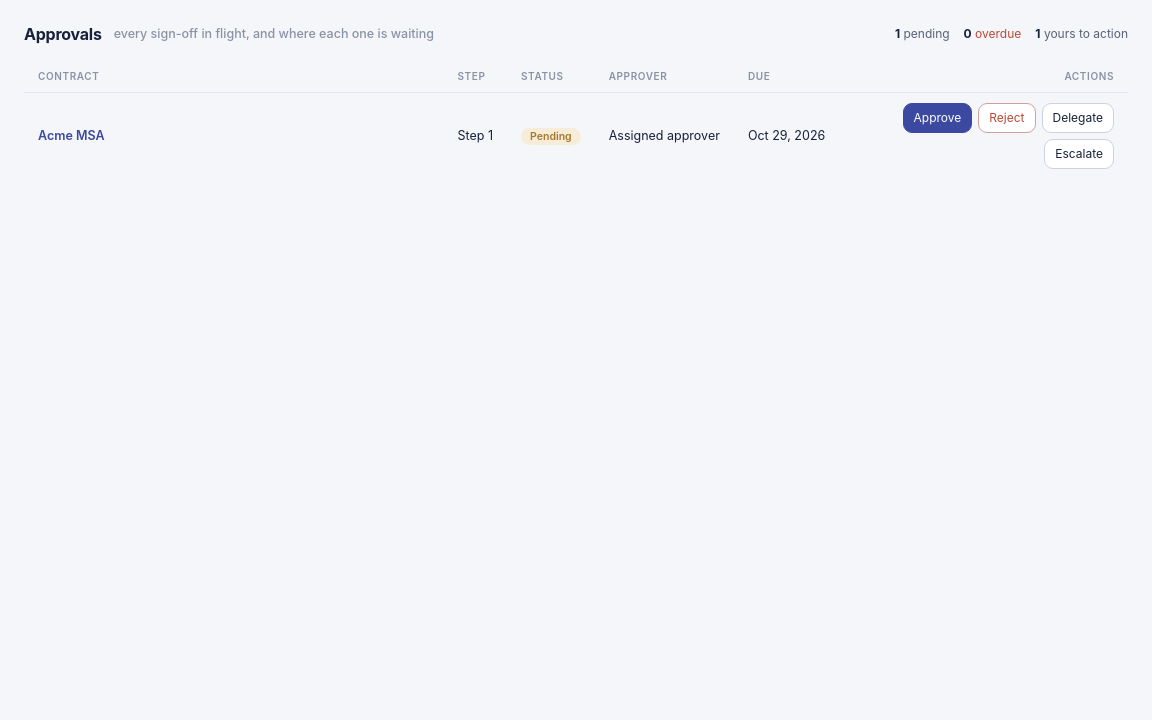
Test: the boxes and messages say which contract › names the contract in the Delegate box and offers only the people the server returns
The width and height of the screenshot is (1152, 720).
Click the button "Delegate" at (1078,118), box [1042, 103, 1114, 133]
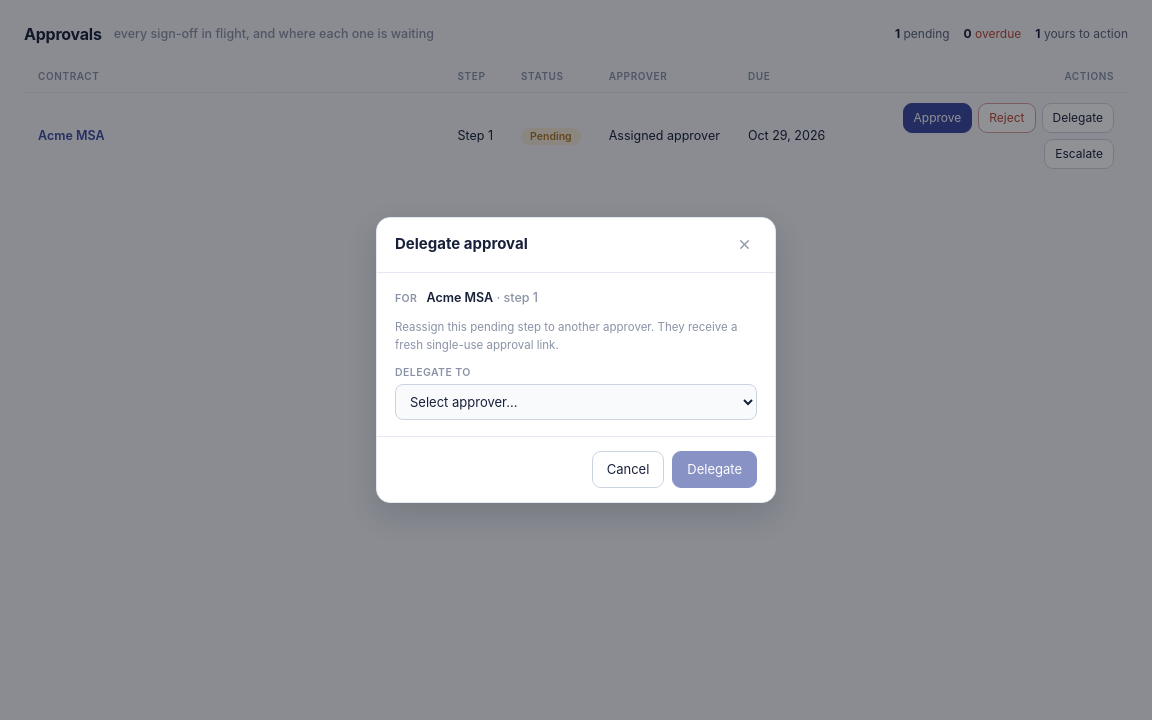
Now the element "Delegate approval" shows "Acme MSA", box [426, 290, 493, 305]
